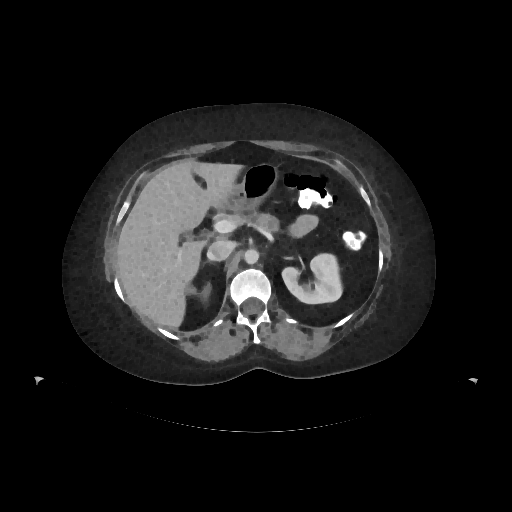Lesion: (184, 284, 198, 297)
